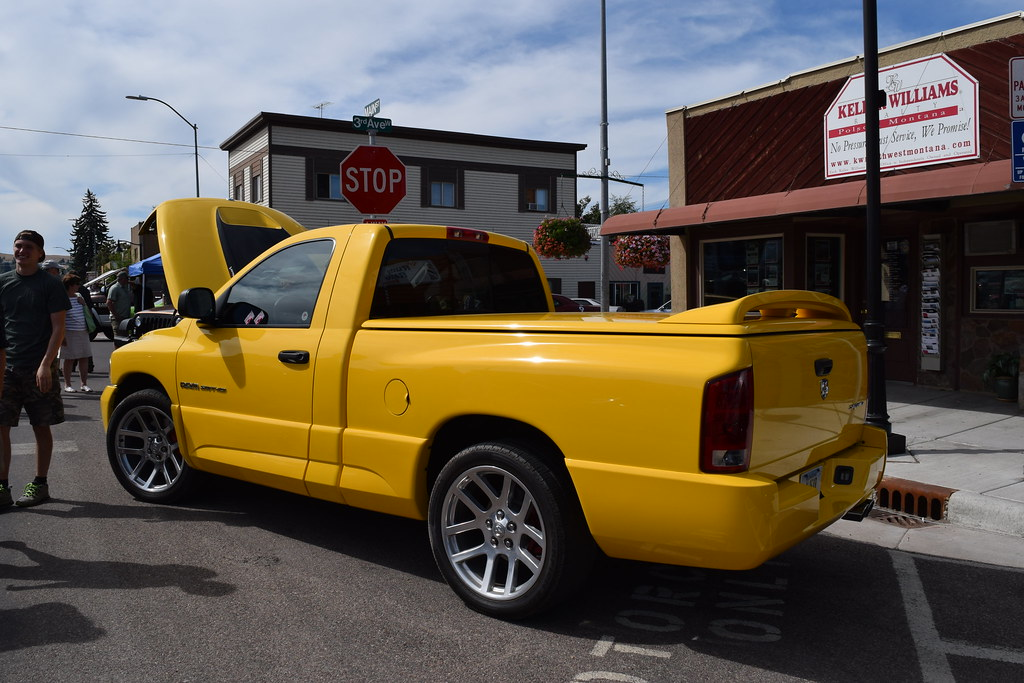car: (101, 172, 901, 617)
person: (1, 208, 81, 519)
